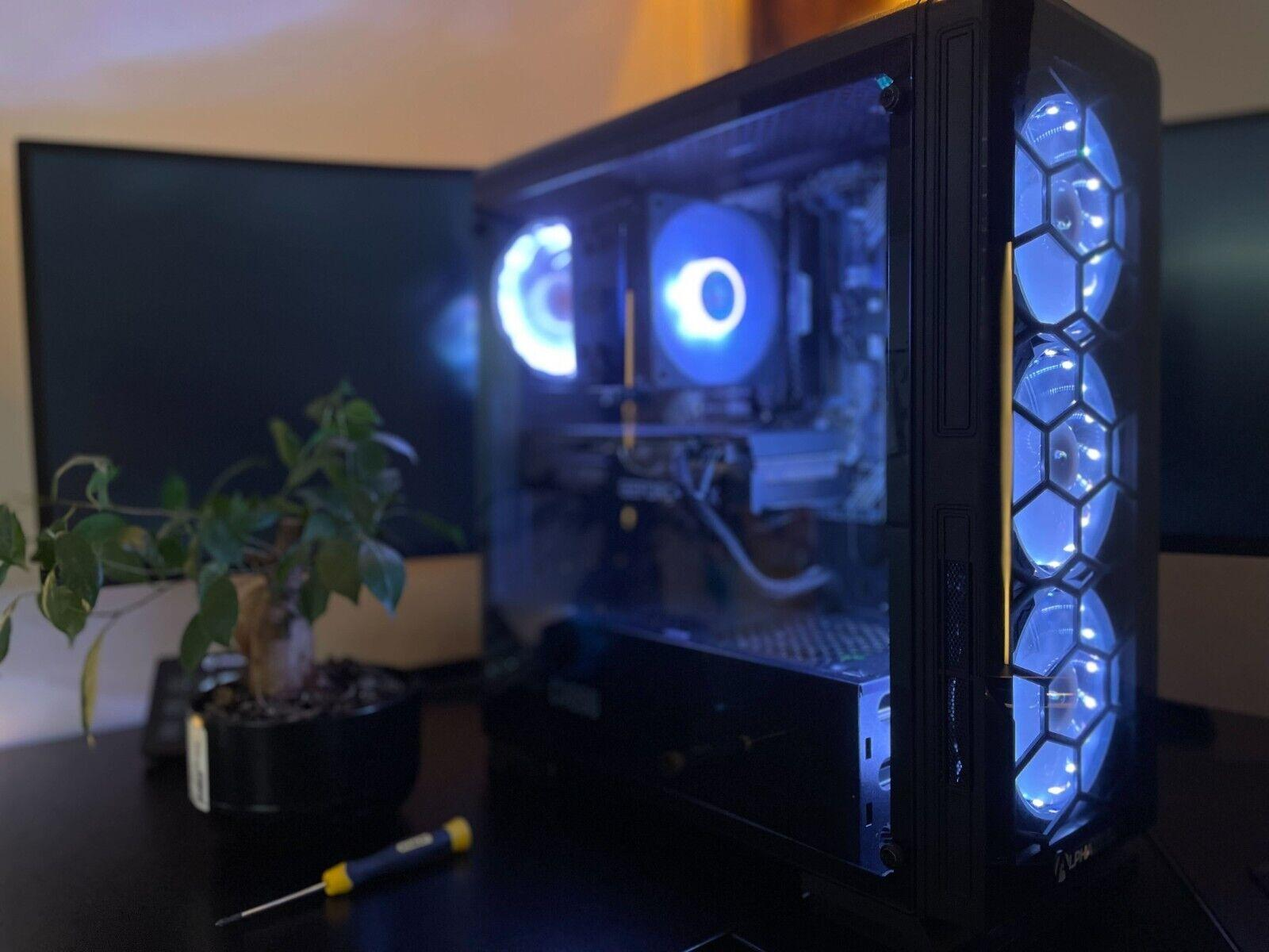DESKTOP PC: (475, 0, 1269, 920)
Monitors: (12, 130, 498, 574)
